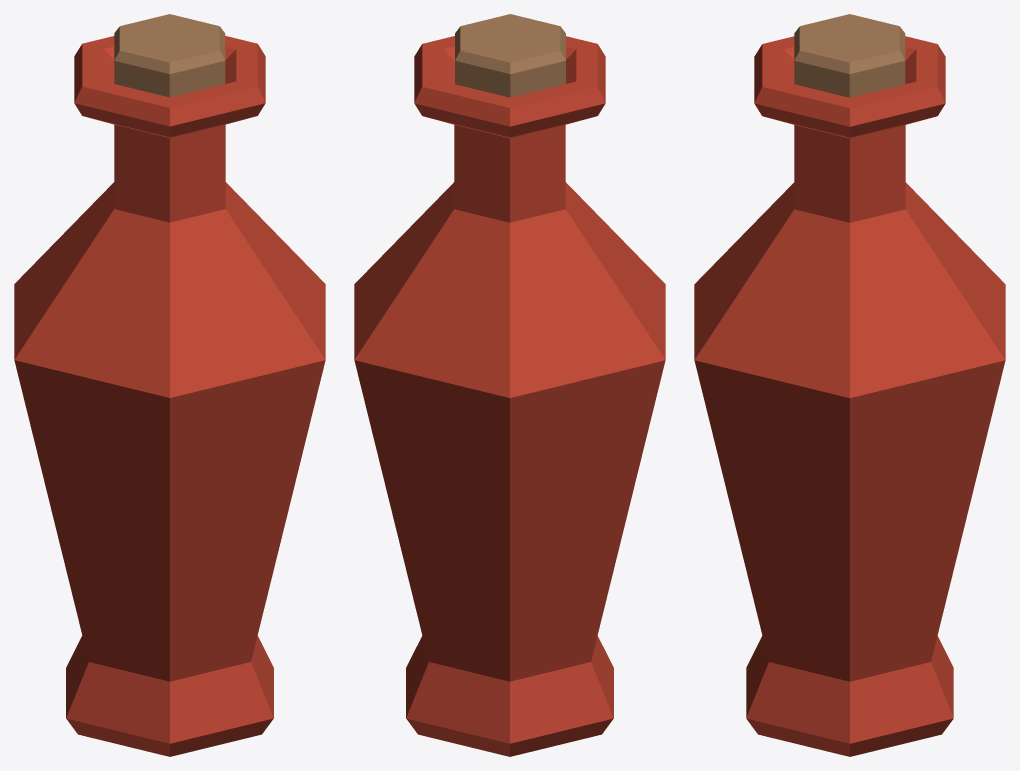
Rendered from potion_8.glb.
3 renders of one model, left to right at view 1: azimuth 30°, elevation 25°; view 2: azimuth 150°, elevation 25°; view 3: azimuth 270°, elevation 25°, orthographic.
Visible parts, largest first — view 1: potion_8; view 2: potion_8; view 3: potion_8.
Boxes of the visible parts, x1=… form: potion_8: x1=14, y1=14, x2=325, y2=756; potion_8: x1=354, y1=14, x2=665, y2=756; potion_8: x1=694, y1=14, x2=1005, y2=756.
Bounding box in the file's own units: 0.1645 × 0.3403 × 0.1425.
Materials: 2 (2 with a texture image).
